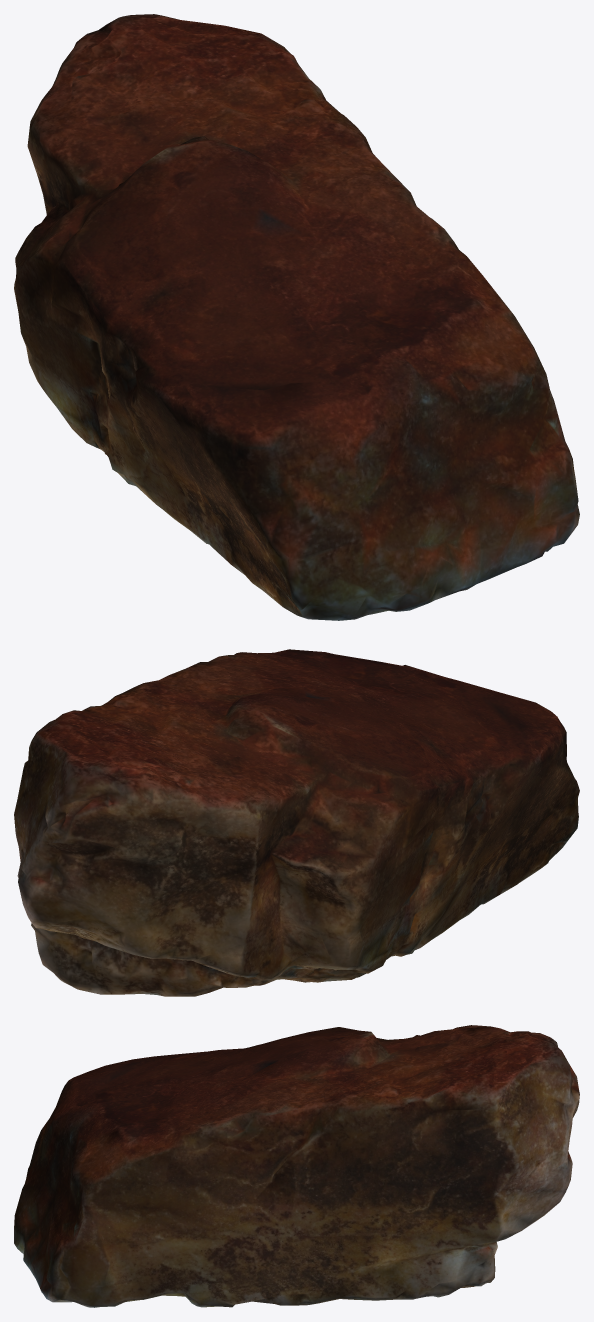
File: rock_07_1k.gltf
3 renders of one model, top to bottom at view 1: azimuth 30°, elevation 25°; view 2: azimuth 150°, elevation 25°; view 3: azimuth 270°, elevation 25°, orthographic. The views are drawn at different scales.
Visible parts, largest first — view 1: rock_07; view 2: rock_07; view 3: rock_07.
Boxes of the visible parts, <box> form: rock_07: <box>14,14,579,620</box>; rock_07: <box>14,649,579,996</box>; rock_07: <box>14,1025,579,1307</box>.
Size of the model in its own units: 0.1686 by 0.1437 by 0.3199.
1 material, 1 textured.
